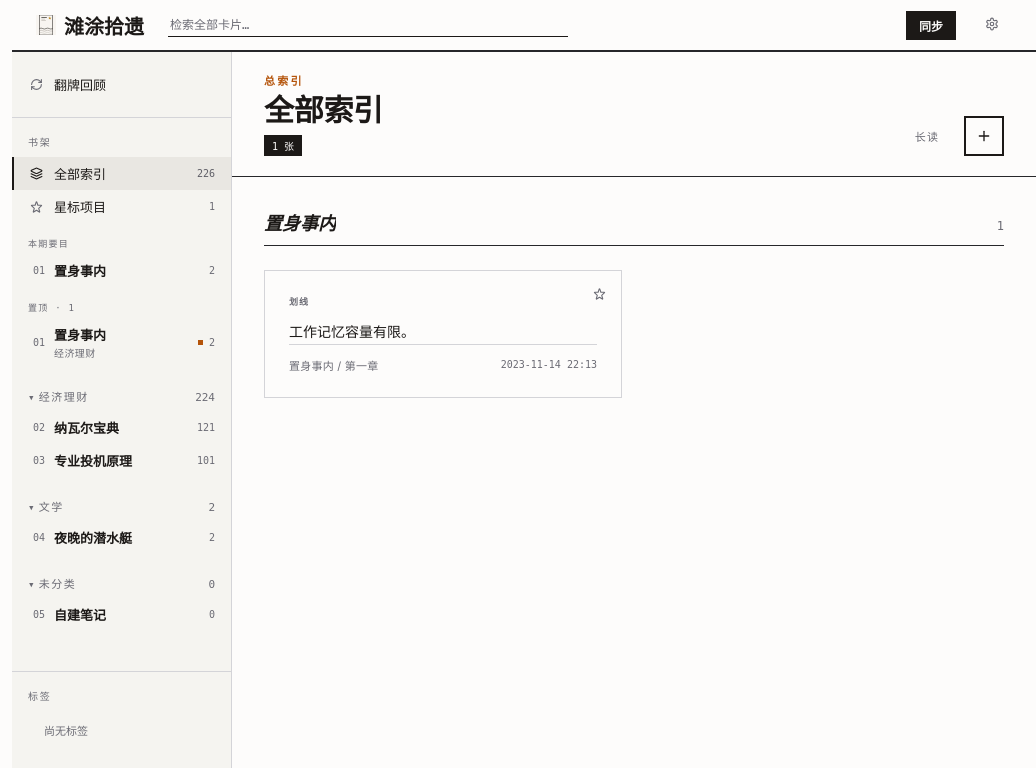
Test: 侧栏分类层级树 › 置顶钮把书移入树外置顶区；置顶行小字补大类名
Click the button "02 纳瓦尔宝典 121".
click(122, 428)  # box x1=12 y1=411 x2=231 y2=444
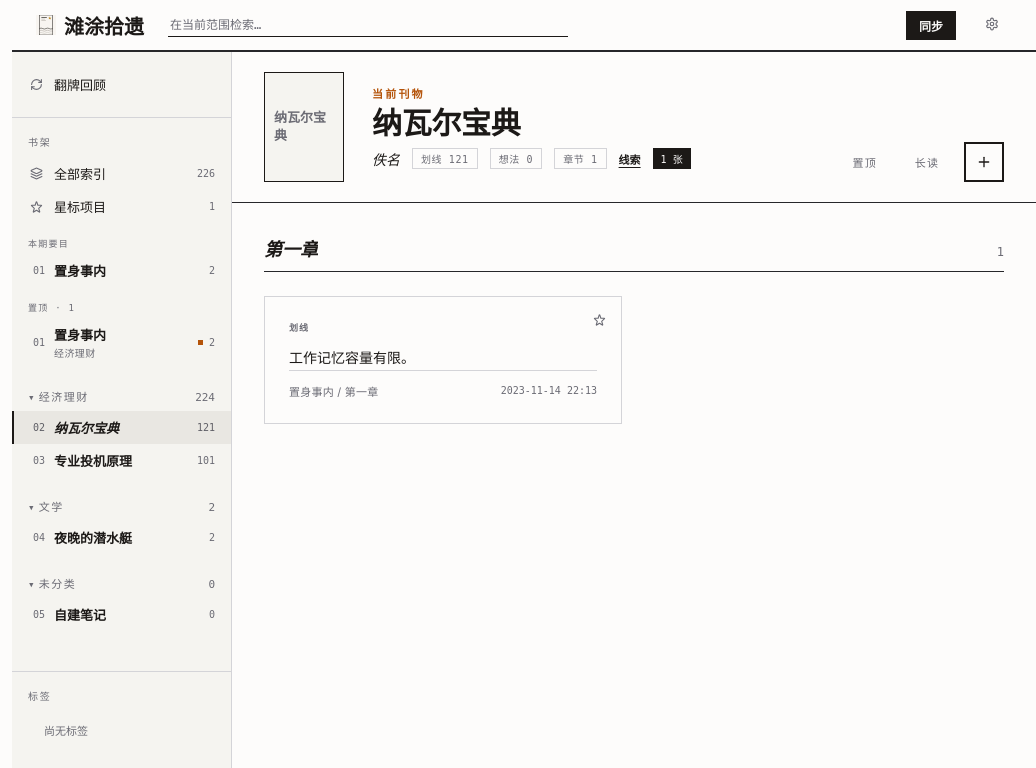
Click the button "置顶".
click(865, 162)  # box x1=840 y1=147 x2=890 y2=177
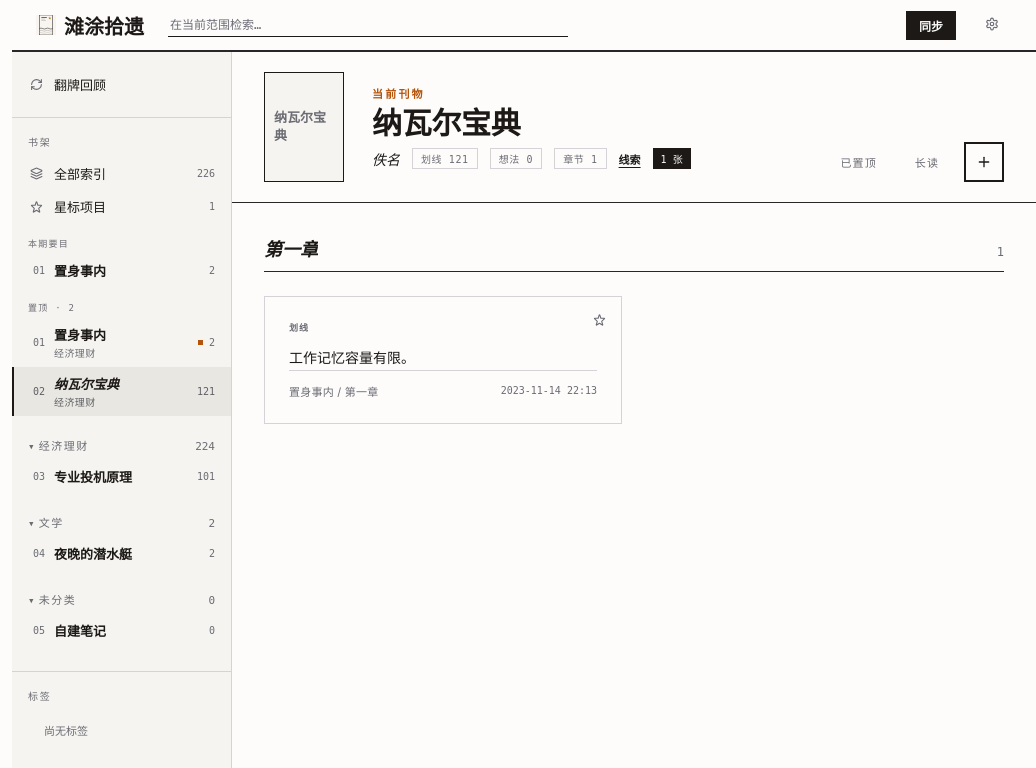
Expected: the button "已置顶" is shown, x1=828 y1=147 x2=890 y2=177
